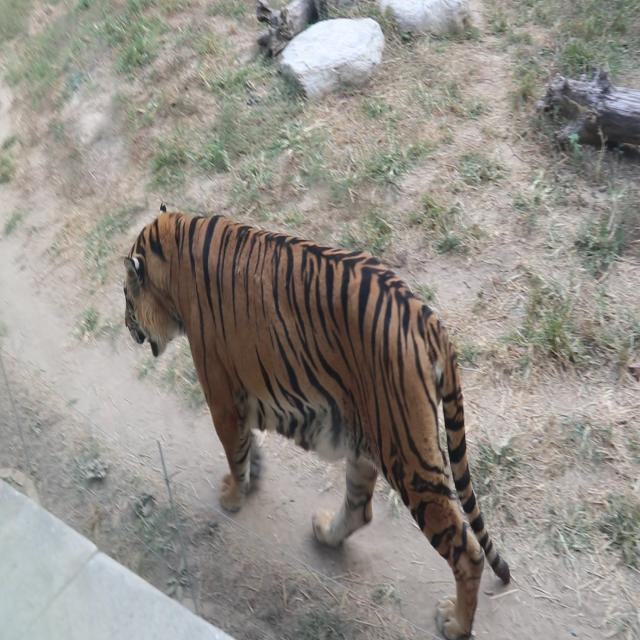Tiger: (91, 159, 531, 636)
